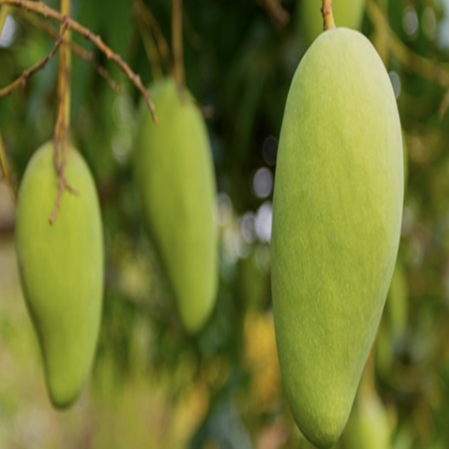mango: (249, 15, 427, 449), (121, 69, 230, 352), (4, 132, 107, 417)
